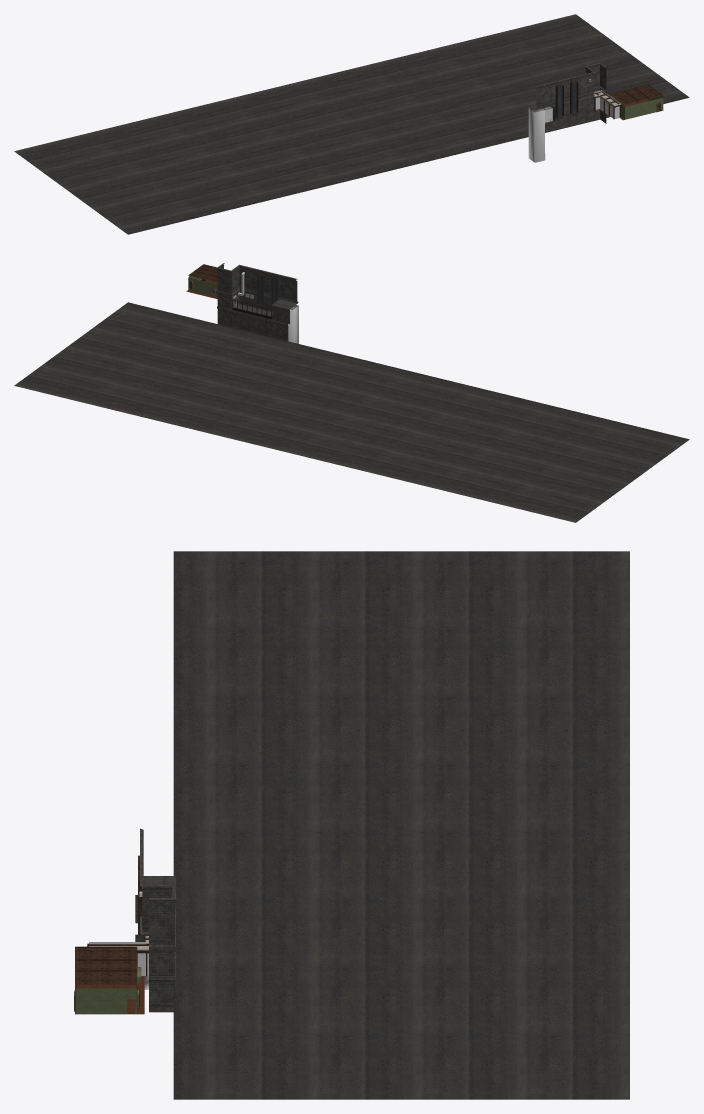
The picture shows the model from 3 angles, top to bottom: view 1: azimuth 30°, elevation 25°; view 2: azimuth 150°, elevation 25°; view 3: azimuth 270°, elevation 25°; orthographic projection. The views are drawn at different scales.
Parts seen in each view (by area): view 1: LOD_1_Group_0_Sub_31__st1_townAsphalt00_Mat, LOD_1_Group_0_Sub_10__st1_townPolice01_Mat, LOD_1_Group_0_Sub_6__st2_police2fRightWall04, LOD_1_Group_0_Sub_15__st2_police2fRightCeiling04, LOD_1_Group_0_Sub_17__st2_police2fRightFrame02, LOD_1_Group_0_Sub_5__st4_Police2fRightWall01, LOD_1_Group_0_Sub_9__st1_townPolice00_Mat, LOD_1_Group_0_Sub_26__st4_policeHallwindow__Env_Emissive, LOD_1_Group_0_Sub_25__st4_policeHallPillar01_MAT; view 2: LOD_1_Group_0_Sub_31__st1_townAsphalt00_Mat, LOD_1_Group_0_Sub_10__st1_townPolice01_Mat, LOD_1_Group_0_Sub_9__st1_townPolice00_Mat; view 3: LOD_1_Group_0_Sub_31__st1_townAsphalt00_Mat, LOD_1_Group_0_Sub_10__st1_townPolice01_Mat, LOD_1_Group_0_Sub_15__st2_police2fRightCeiling04, LOD_1_Group_0_Sub_5__st4_Police2fRightWall01, LOD_1_Group_0_Sub_9__st1_townPolice00_Mat, LOD_1_Group_0_Sub_17__st2_police2fRightFrame02.
Boxes of the visible parts, x1,y1,x2,y2 form: LOD_1_Group_0_Sub_31__st1_townAsphalt00_Mat: (14,14,689,234); LOD_1_Group_0_Sub_10__st1_townPolice01_Mat: (527,64,606,132); LOD_1_Group_0_Sub_6__st2_police2fRightWall04: (528,90,620,162); LOD_1_Group_0_Sub_15__st2_police2fRightCeiling04: (609,84,663,105); LOD_1_Group_0_Sub_17__st2_police2fRightFrame02: (594,84,662,119); LOD_1_Group_0_Sub_5__st4_Police2fRightWall01: (611,95,663,119); LOD_1_Group_0_Sub_9__st1_townPolice00_Mat: (527,62,606,109); LOD_1_Group_0_Sub_26__st4_policeHallwindow__Env_Emissive: (556,80,576,120); LOD_1_Group_0_Sub_25__st4_policeHallPillar01_MAT: (555,80,578,117); LOD_1_Group_0_Sub_31__st1_townAsphalt00_Mat: (14,302,689,522); LOD_1_Group_0_Sub_10__st1_townPolice01_Mat: (217,265,297,341); LOD_1_Group_0_Sub_9__st1_townPolice00_Mat: (217,263,298,325); LOD_1_Group_0_Sub_31__st1_townAsphalt00_Mat: (173,551,629,1099); LOD_1_Group_0_Sub_10__st1_townPolice01_Mat: (135,888,174,1012); LOD_1_Group_0_Sub_15__st2_police2fRightCeiling04: (75,946,137,984); LOD_1_Group_0_Sub_5__st4_Police2fRightWall01: (75,967,141,1013); LOD_1_Group_0_Sub_9__st1_townPolice00_Mat: (140,828,175,981); LOD_1_Group_0_Sub_17__st2_police2fRightFrame02: (75,937,148,1013).
Size of the model in its own units: 172 by 22.24 by 73.55.
